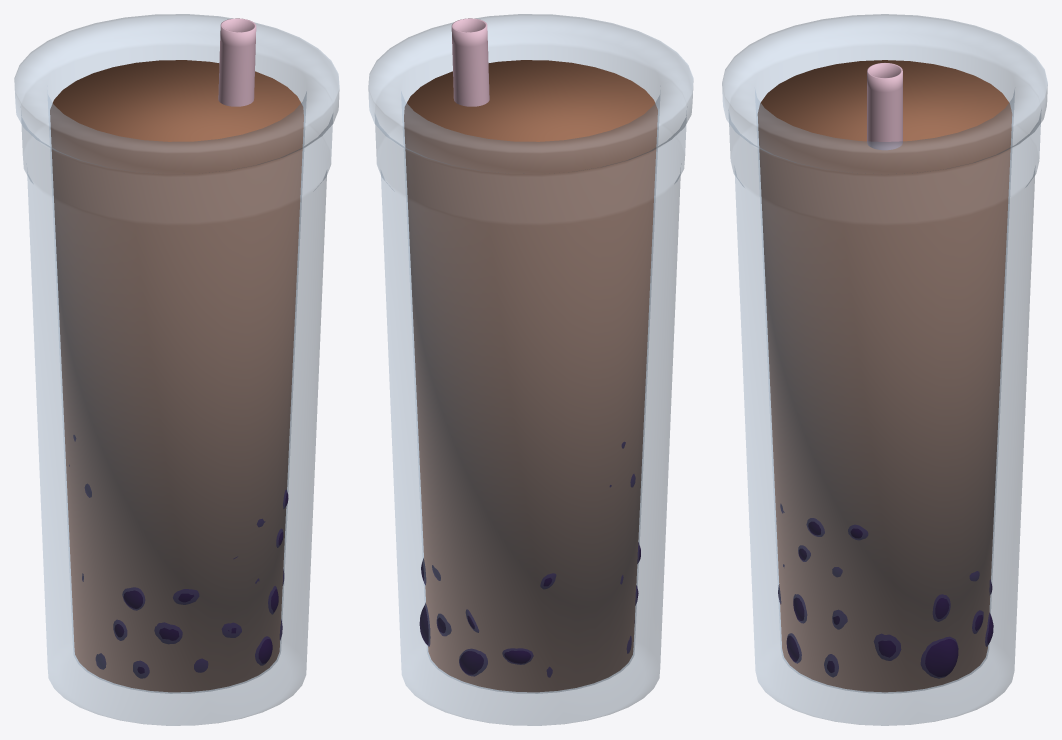
Rendered from boba.glb.
3 renders of one model, left to right at view 1: azimuth 30°, elevation 25°; view 2: azimuth 150°, elevation 25°; view 3: azimuth 270°, elevation 25°, orthographic.
Visible parts, largest first — view 1: BobaGlass, Tea, Balls, Straw; view 2: BobaGlass, Tea, Straw, Balls; view 3: BobaGlass, Tea, Balls, Straw.
Part boxes in pixels (bbox=[...]): BobaGlass: bbox=[14, 14, 339, 725]; Tea: bbox=[50, 60, 303, 692]; Balls: bbox=[69, 435, 288, 678]; Straw: bbox=[218, 18, 256, 106]; BobaGlass: bbox=[368, 14, 693, 725]; Tea: bbox=[404, 60, 657, 692]; Straw: bbox=[451, 18, 489, 106]; Balls: bbox=[419, 442, 640, 677]; BobaGlass: bbox=[722, 14, 1047, 725]; Tea: bbox=[757, 60, 1012, 692]; Balls: bbox=[778, 504, 993, 678]; Straw: bbox=[867, 62, 902, 150].
Size of the model in its own units: 1.5 by 3.23 by 1.5.
